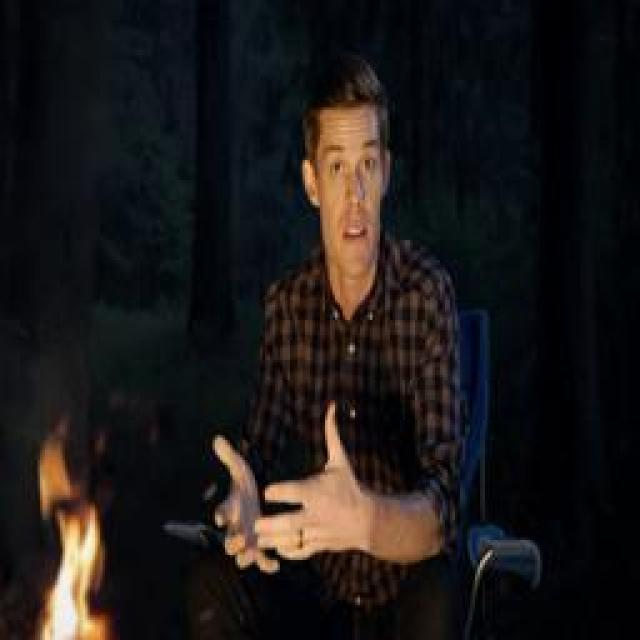Fire: (28, 425, 112, 640)
